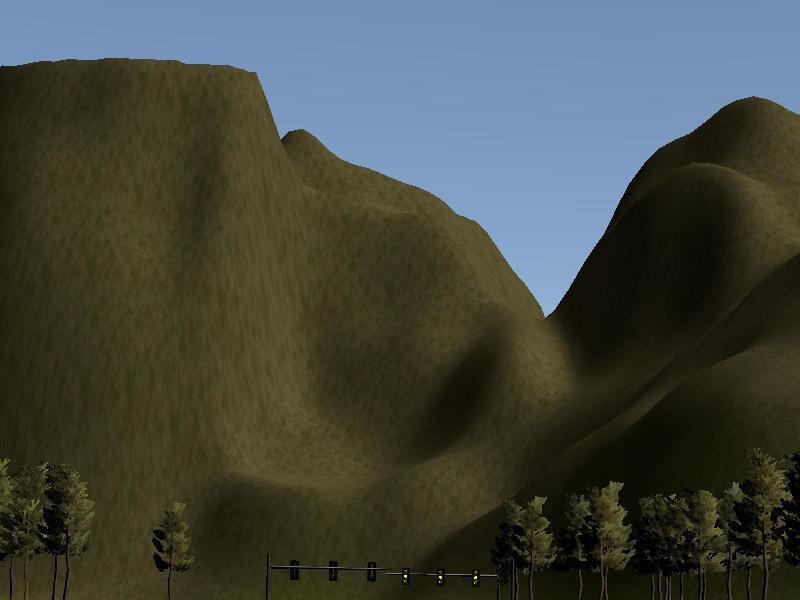Yellow: (435, 566, 444, 588), (401, 568, 409, 587), (471, 569, 479, 587)
